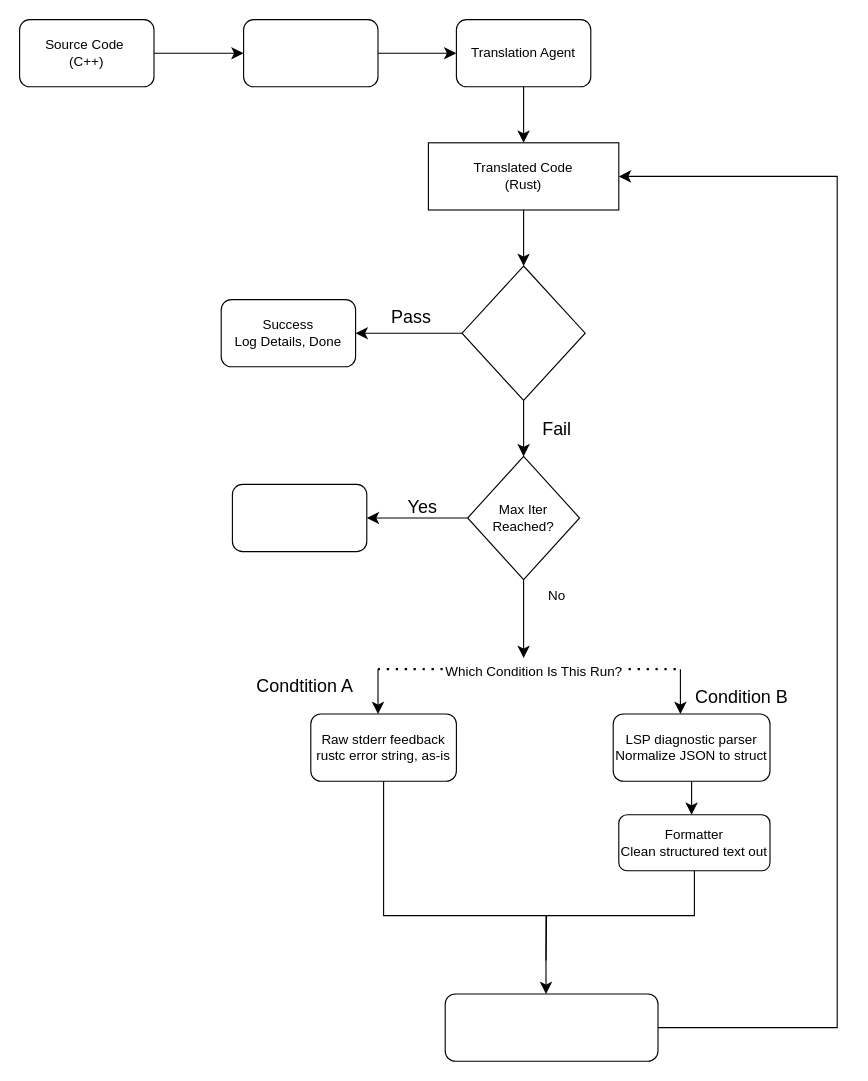
The diagram is 868 pixels wide and 1081 high, and some of its shapes have lost their labels. The box of each missing label's shape, as (x1, y1, x2, y2) in pixels:
Chunking: (242, 18, 378, 87)
Compiled Code (rustc validates): (461, 265, 585, 400)
Failure Log Details, Stop: (231, 483, 367, 552)
Repair Agent LLM fixes code given feedback: (444, 993, 658, 1061)
